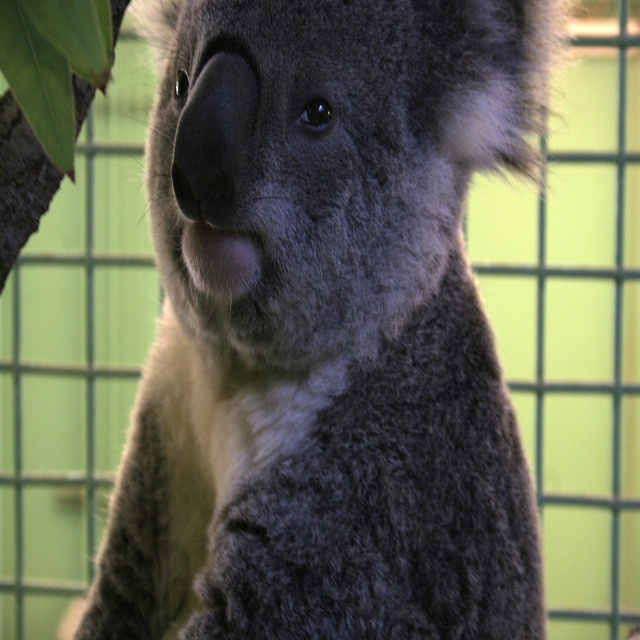Koala: (66, 0, 585, 639)
